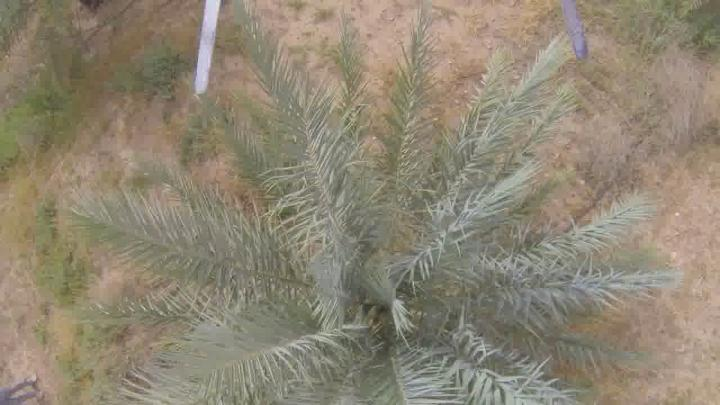Date-Palm-Crown: (230, 155, 548, 404)
